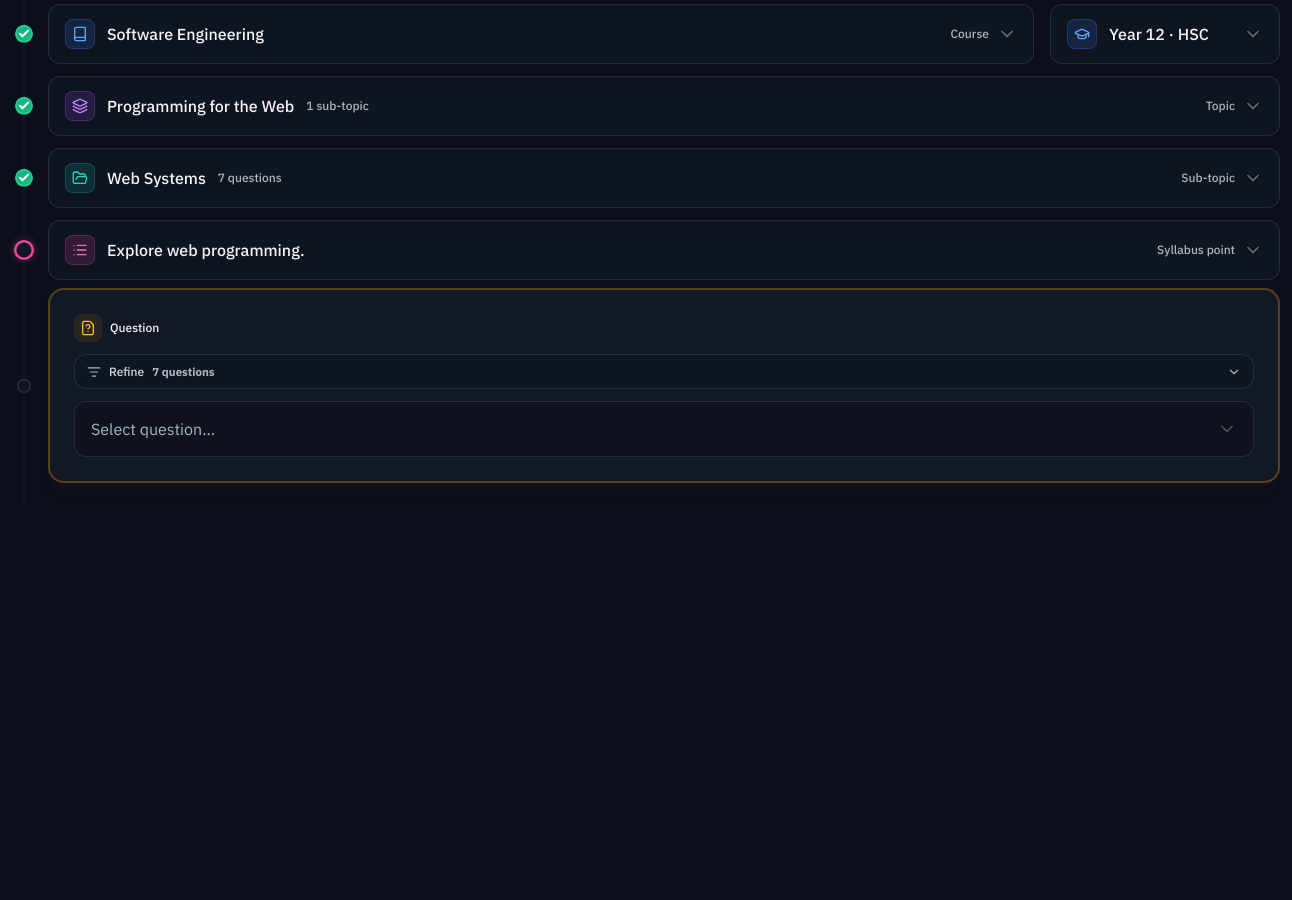
Test: the question picker, once it knows how the reader went › leads with one step on, and says why
Click the button "Select question…" at (153, 429), box [74,401,1254,457]
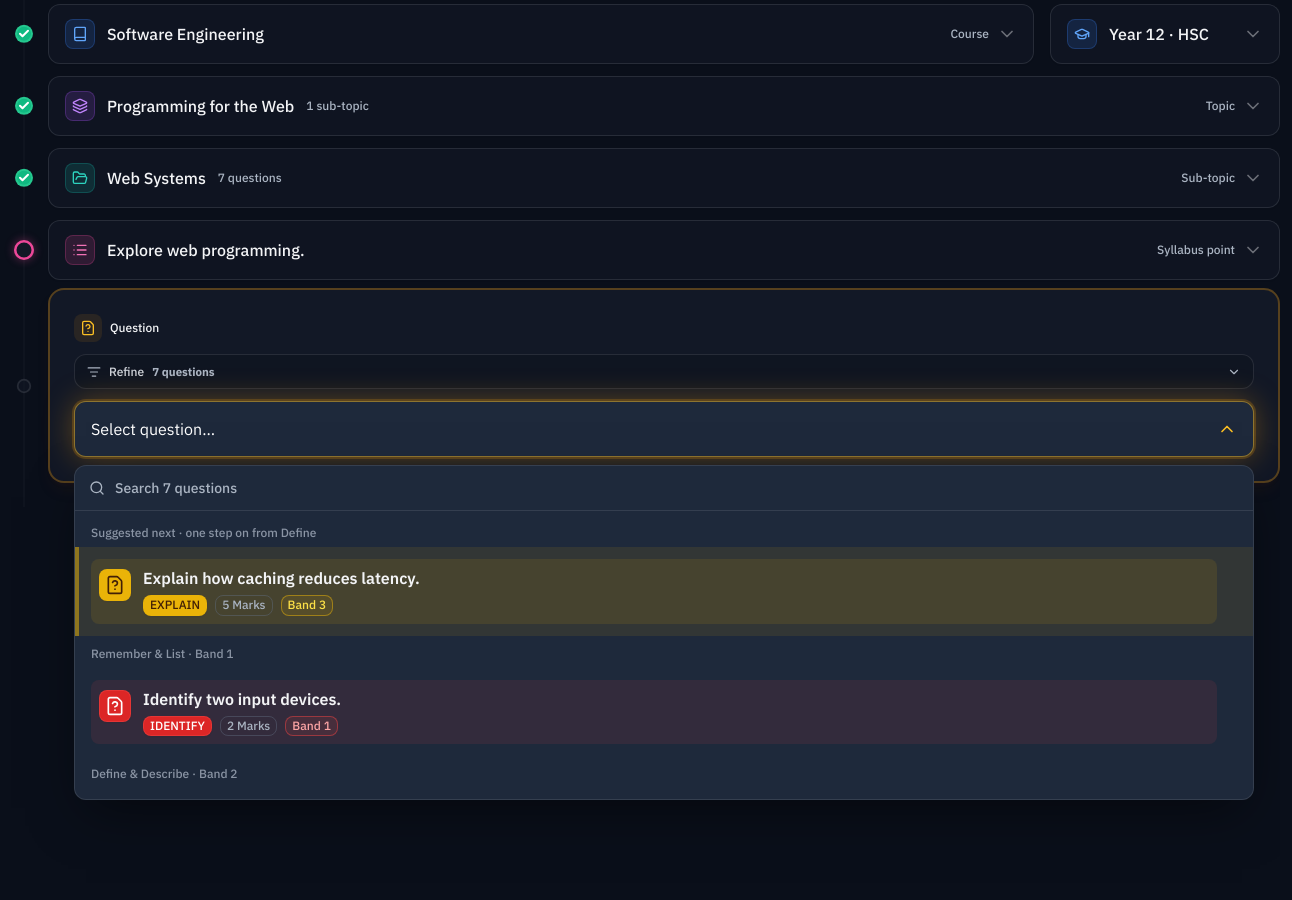
Expected: the text "Suggested next · one step on from Define" is shown, [75,515,1253,548]
Expected: the option "Explain how caching reduces latency. EXPLAIN 5 Marks Band 3" is shown, [75,547,1253,636]
Expected: the text "Explain how caching reduces latency." is shown once, [143,568,420,588]
